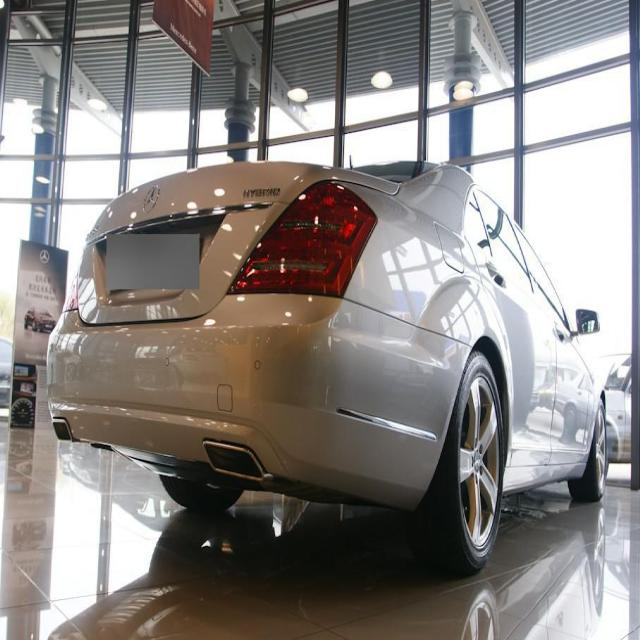back_right_side_light: (230, 178, 379, 304)
front_right_side_door: (542, 214, 604, 486)
front_right_side_mirror: (572, 304, 600, 342)
rear_bumper: (44, 286, 472, 505)
wheel: (428, 358, 508, 566)
